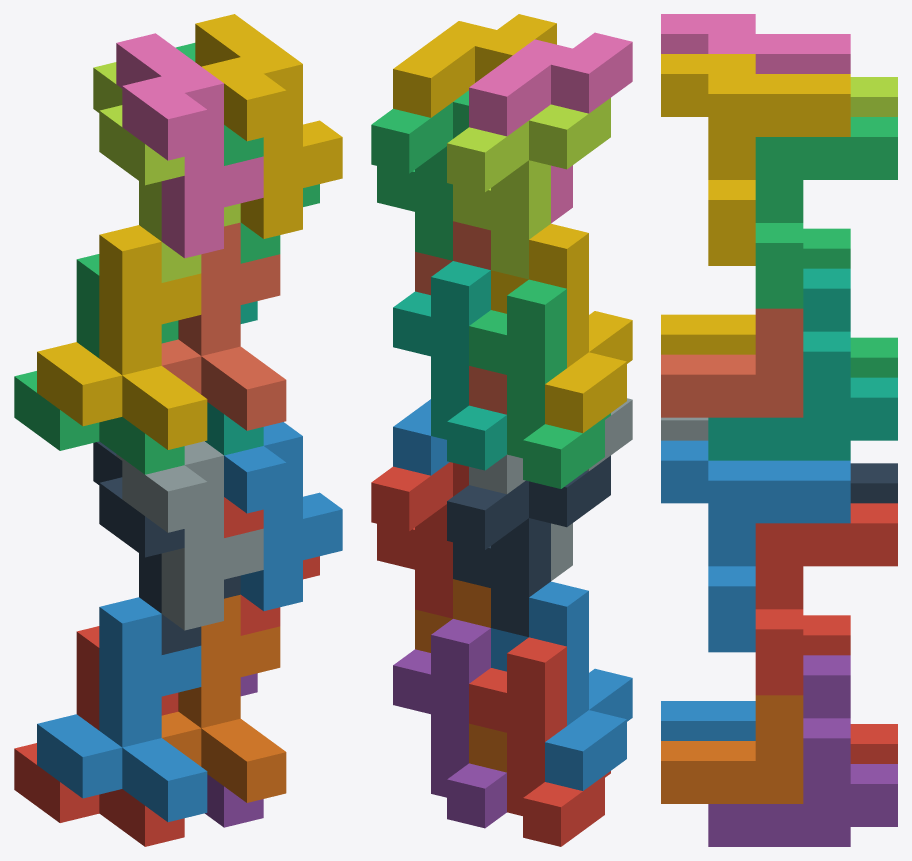
Rendered from tiling.obj.
3 views of the same model, side by side, from view 1: azimuth 30°, elevation 25°; view 2: azimuth 150°, elevation 25°; view 3: azimuth 270°, elevation 25° (orthographic). The views are drawn at different scales.
Parts seen in each view (by area): view 1: copy_1_domain_2, copy_1_domain_4, copy_2_domain_4, copy_2_domain_8, copy_2_domain_2, copy_1_domain_6, copy_1_domain_8, copy_2_domain_6, copy_1_domain_1, copy_1_domain_3, copy_2_domain_3, copy_2_domain_1 (+4 smaller); view 2: copy_2_domain_3, copy_1_domain_3, copy_1_domain_1, copy_2_domain_1, copy_1_domain_4, copy_1_domain_2, copy_1_domain_7, copy_1_domain_5, copy_2_domain_4, copy_2_domain_7, copy_2_domain_5, copy_2_domain_8 (+4 smaller); view 3: copy_2_domain_8, copy_2_domain_6, copy_1_domain_7, copy_1_domain_5, copy_2_domain_5, copy_2_domain_7, copy_1_domain_8, copy_1_domain_6, copy_2_domain_4, copy_1_domain_3, copy_1_domain_4, copy_1_domain_1 (+4 smaller).
Boxes of the visible parts, x1,y1,x2,y2 form: copy_1_domain_2: (37, 597, 207, 822); copy_1_domain_4: (37, 225, 207, 449); copy_2_domain_4: (116, 33, 263, 258); copy_2_domain_8: (195, 14, 342, 238); copy_2_domain_2: (116, 441, 263, 630); copy_1_domain_6: (161, 594, 286, 802); copy_1_domain_8: (161, 222, 286, 430); copy_2_domain_6: (224, 422, 342, 611); copy_1_domain_1: (14, 626, 184, 846); copy_1_domain_3: (14, 254, 184, 474); copy_2_domain_3: (93, 62, 240, 282); copy_2_domain_1: (93, 441, 240, 654); copy_2_domain_3: (447, 98, 610, 279); copy_1_domain_3: (469, 279, 610, 488); copy_1_domain_1: (469, 637, 610, 846); copy_2_domain_1: (447, 455, 610, 637); copy_1_domain_4: (491, 223, 632, 433); copy_1_domain_2: (491, 581, 632, 790); copy_1_domain_7: (393, 261, 506, 470); copy_1_domain_5: (393, 619, 506, 828); copy_2_domain_4: (469, 32, 632, 223); copy_2_domain_7: (371, 90, 468, 260); copy_2_domain_5: (371, 462, 468, 618); copy_2_domain_8: (393, 14, 556, 117); copy_2_domain_8: (661, 54, 850, 265); copy_2_domain_6: (661, 440, 850, 652); copy_1_domain_7: (708, 268, 897, 460); copy_1_domain_5: (708, 655, 897, 846); copy_2_domain_5: (755, 503, 897, 695); copy_2_domain_7: (755, 117, 897, 308); copy_1_domain_8: (661, 308, 803, 417); copy_1_domain_6: (661, 695, 803, 803); copy_2_domain_4: (661, 14, 850, 73); copy_1_domain_3: (803, 228, 897, 377); copy_1_domain_4: (661, 314, 755, 354); copy_1_domain_1: (803, 615, 897, 763).
Size of the model in its own units: 6 by 18 by 5.
